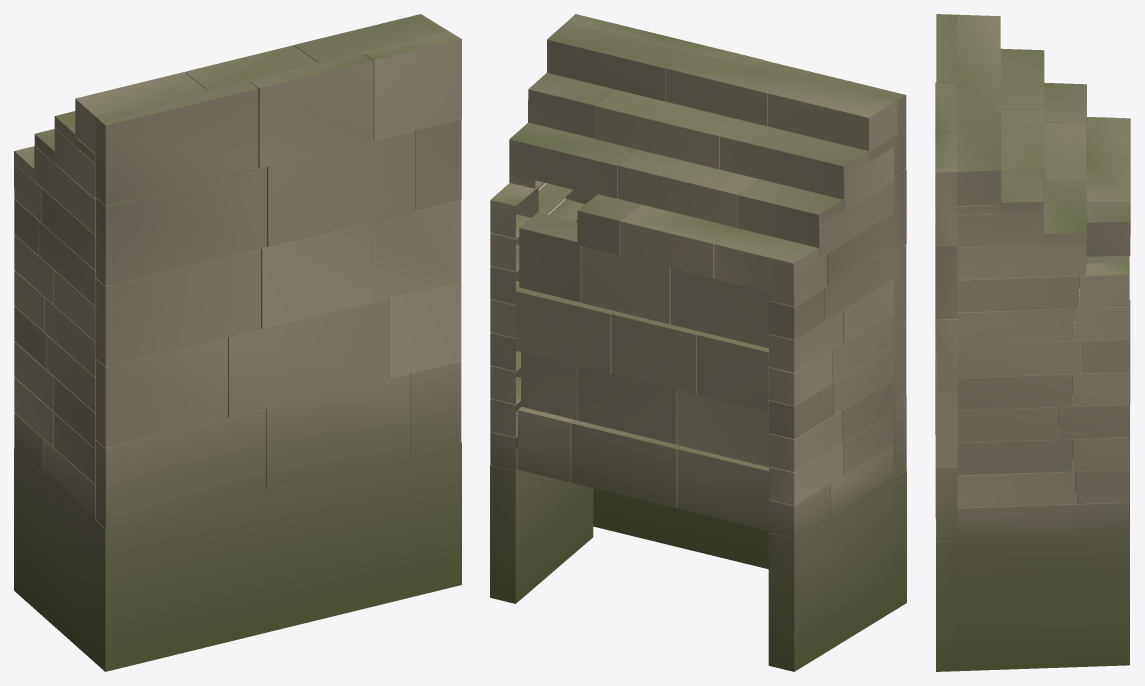
File: arena_seats_broken_a_mid.glb
The picture shows the model from 3 angles, left to right: view 1: azimuth 30°, elevation 25°; view 2: azimuth 150°, elevation 25°; view 3: azimuth 270°, elevation 25°; orthographic projection. The views are drawn at different scales.
Visible parts, largest first — view 1: arena_seats_broken_a_mid; view 2: arena_seats_broken_a_mid; view 3: arena_seats_broken_a_mid.
Part boxes in pixels (box(x1,y1,x2,y2)): arena_seats_broken_a_mid: box(14, 14, 461, 671); arena_seats_broken_a_mid: box(490, 14, 906, 671); arena_seats_broken_a_mid: box(935, 14, 1130, 671).
Bounding box in the file's own units: 15.71 × 22.99 × 8.16.
